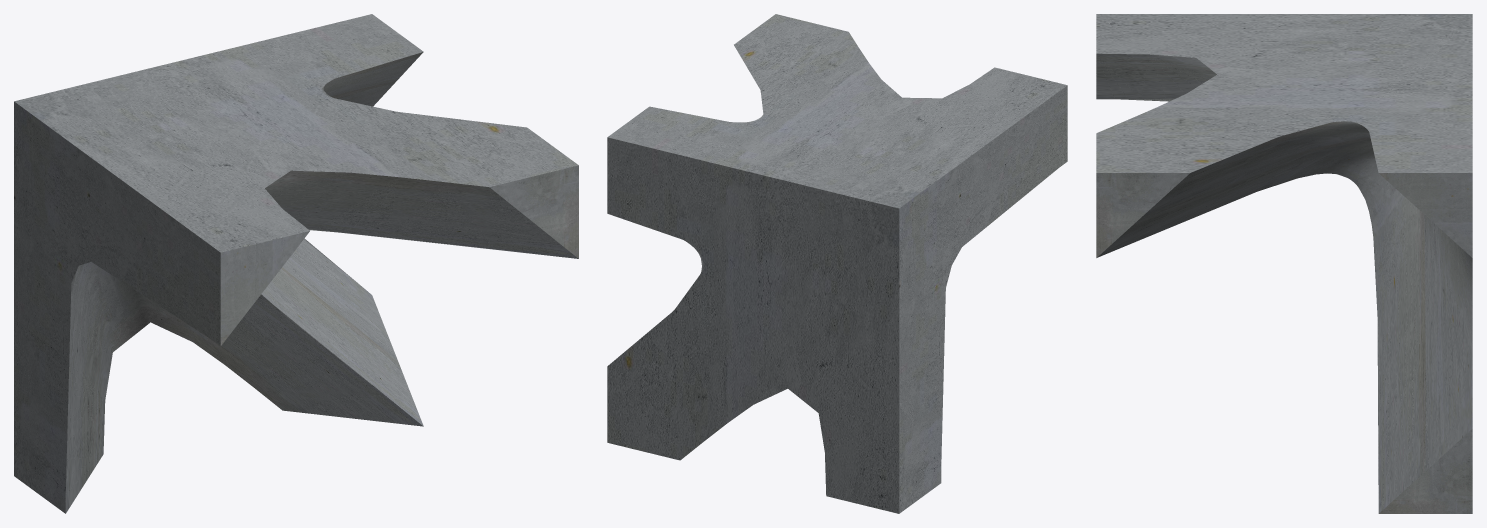
Rendered from module_P2.fbx.
3 renders of one model, left to right at view 1: azimuth 30°, elevation 25°; view 2: azimuth 150°, elevation 25°; view 3: azimuth 270°, elevation 25°, orthographic. The views are drawn at different scales.
Visible parts, largest first — view 1: modules; view 2: modules; view 3: modules.
Part boxes in pixels (bbox=[...]): modules: bbox=[14, 14, 578, 513]; modules: bbox=[607, 14, 1067, 513]; modules: bbox=[1096, 14, 1472, 513].
Size of the model in its own units: 1000 by 1000 by 1000.
1 material, 1 textured.
